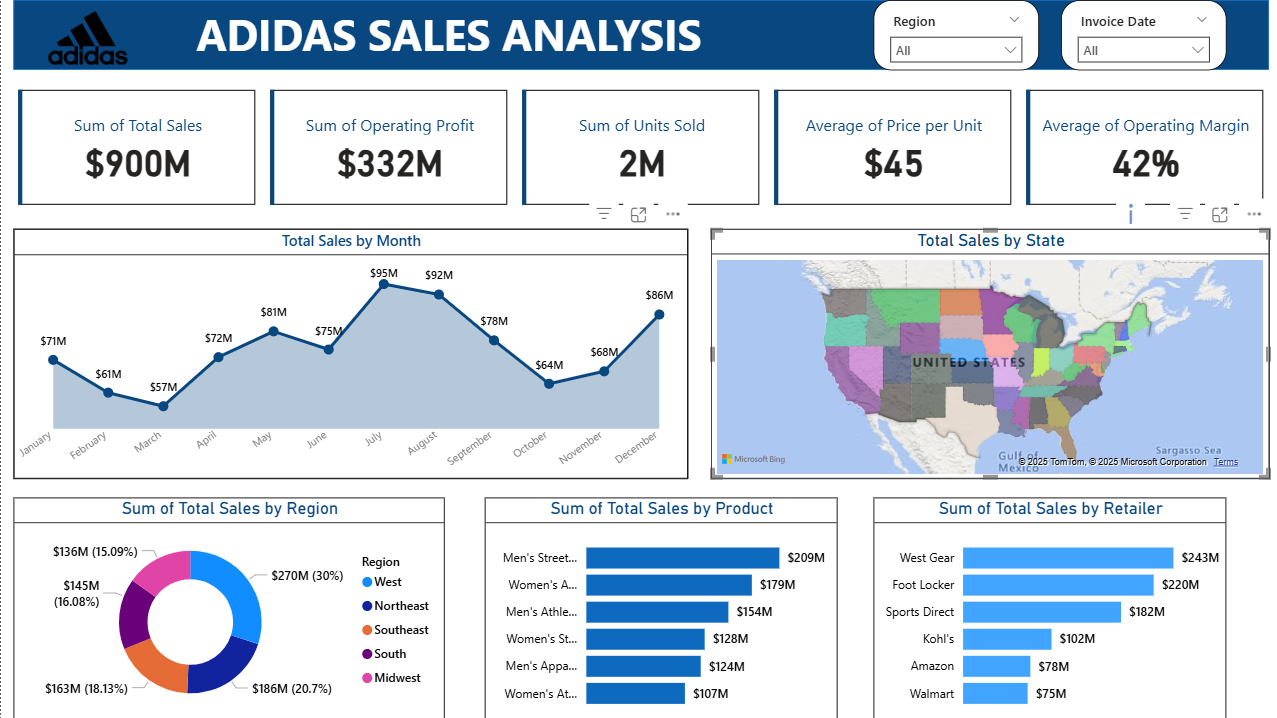

This screenshot's page, from the dashboard's own definition file:
{"tool":"powerbi","page":{"name":"Page 1","canvas":[1280,720],"ordinal":0},"visuals":[{"type":"shape","box":[12.3,0,1255.6,70],"z":0},{"type":"textbox","box":[96.1,0,885.1,70],"z":1000},{"type":"cardVisual","fields":{"Data":["Sum(Data Sales Adidas.Total Sales)","Sum(Data Sales Adidas.Operating Profit)","Sum(Data Sales Adidas.Units Sold)","Avg(Data Sales Adidas.Price per Unit)","Avg(Data Sales Adidas.Operating Margin)"]},"box":[12.3,85.1,1255.6,125],"z":2000},{"type":"areaChart","title":"Total Sales by Month","fields":{"Category":["Data Sales Adidas.Invoice Date.Variation.Date Hierarchy.Month"],"Y":["Sum(Data Sales Adidas.Total Sales)"]},"box":[12.9,228.6,674.3,250],"z":3000},{"type":"filledMap","title":"Total Sales by State","fields":{"Category":["Data Sales Adidas.State"],"Series":["Data Sales Adidas.Total Sales"]},"box":[710,228.6,558.6,250],"z":4000},{"type":"donutChart","fields":{"Category":["Data Sales Adidas.Region"],"Y":["Sum(Data Sales Adidas.Total Sales)"]},"box":[12.9,497.1,431.4,222.9],"z":5000},{"type":"barChart","title":" Sum of Total Sales by Product","fields":{"Category":["Data Sales Adidas.Product"],"Y":["Sum(Data Sales Adidas.Total Sales)","Sum(Data Sales Adidas.Total Sales)"]},"box":[484.3,497.1,352.9,222.9],"z":6000},{"type":"barChart","title":" Sum of Total Sales by Retailer","fields":{"Category":["Data Sales Adidas.Retailer"],"Y":["Sum(Data Sales Adidas.Total Sales)","Sum(Data Sales Adidas.Total Sales)"]},"box":[872.9,497.1,352.9,222.9],"z":7000},{"type":"slicer","fields":{"Values":["Data Sales Adidas.Region"]},"box":[872.9,0,165.7,70],"z":8000},{"type":"slicer","fields":{"Values":["Data Sales Adidas.Invoice Date"]},"box":[1060,0,165.7,70],"z":9000},{"type":"image","box":[0,6.2,173.8,63.8],"z":10000}]}

Visuals, with their boxes in screenshot pixels (x1, y1, x2, y2), scaled from the page's 1280x720 canvas onto the 1277x718 screenshot:
shape: <bbox>12, 0, 1265, 70</bbox>
textbox: <bbox>96, 0, 979, 70</bbox>
cardVisual - Sum(Data Sales Adidas.Total Sales) x Sum(Data Sales Adidas.Operating Profit): <bbox>12, 85, 1265, 210</bbox>
"Total Sales by Month" areaChart: <bbox>13, 228, 686, 477</bbox>
"Total Sales by State" filledMap: <bbox>708, 228, 1266, 477</bbox>
donutChart - Data Sales Adidas.Region x Sum(Data Sales Adidas.Total Sales): <bbox>13, 496, 443, 717</bbox>
" Sum of Total Sales by Product" barChart: <bbox>483, 496, 835, 717</bbox>
" Sum of Total Sales by Retailer" barChart: <bbox>871, 496, 1223, 717</bbox>
slicer - Data Sales Adidas.Region: <bbox>871, 0, 1036, 70</bbox>
slicer - Data Sales Adidas.Invoice Date: <bbox>1058, 0, 1223, 70</bbox>
image: <bbox>0, 6, 173, 70</bbox>
